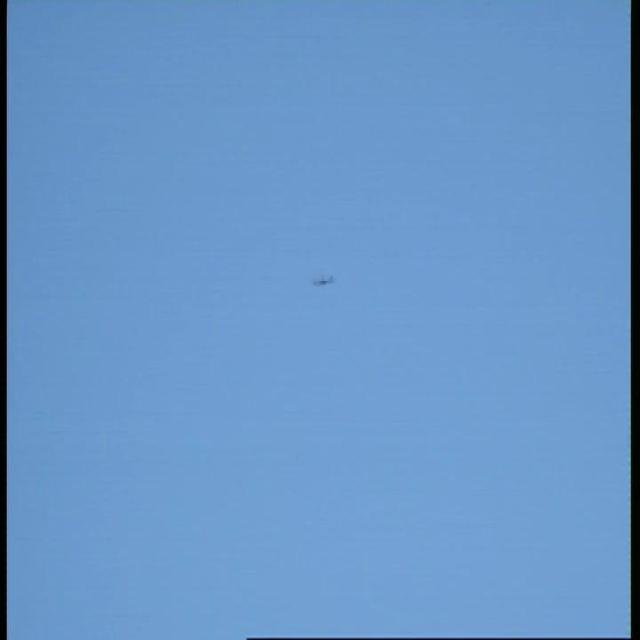drone: (305, 268, 345, 294)
